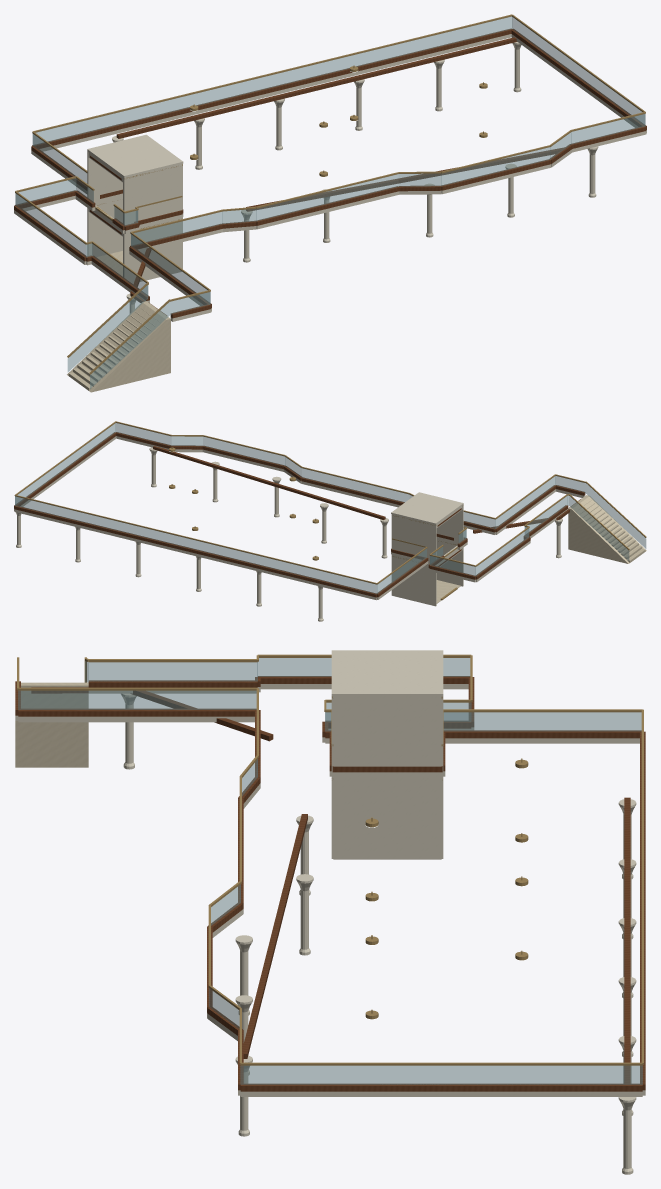
File: AST-DIN-004.glb
The picture shows the model from 3 angles, top to bottom: view 1: azimuth 30°, elevation 25°; view 2: azimuth 150°, elevation 25°; view 3: azimuth 270°, elevation 25°; orthographic projection. The views are drawn at different scales.
Parts seen in each view (by area): view 1: MEZ_GuardGlass_5, MEZ_LiftShaftSide_1, MEZ_StairCarcass, MEZ_GuardPlinth_5, MEZ_LiftShaftSide_-1, MEZ_VisibleEdgeGirder_0, MEZ_LiftClosedCap, MEZ_ProfiledEdge_5, MEZ_GuardGlass_22, MEZ_GuardGlass_4, MEZ_VisibleEdgeGirder_1, MEZ_GuardGlass_1 (+17 smaller); view 2: MEZ_GuardGlass_5, MEZ_LiftShaftSide_-1, MEZ_StairCarcass, MEZ_GuardPlinth_5, MEZ_LiftShaftSide_1, MEZ_LiftClosedCap, MEZ_ProfiledEdge_5, MEZ_VisibleEdgeGirder_1, MEZ_GuardGlass_22, MEZ_GuardGlass_4, MEZ_GuardCap_5, MEZ_GuardGlass_1 (+17 smaller); view 3: MEZ_LiftShaftRear, MEZ_GuardGlass_4, MEZ_LiftClosedCap, MEZ_GuardGlass_19, MEZ_StairCarcass, MEZ_GuardGlass_6, MEZ_GuardPlinth_4, MEZ_GuardGlass_17, MEZ_ProfiledEdge_4, MEZ_GuardPlinth_19, MEZ_VisibleEdgeGirder_0, MEZ_VisibleEdgeGirder_1 (+15 smaller).
Part boxes in pixels (x1,y1,x2,y2): MEZ_GuardGlass_5: (33,16,511,145); MEZ_LiftShaftSide_1: (123,161,182,283); MEZ_StairCarcass: (67,301,170,392); MEZ_GuardPlinth_5: (32,28,511,148); MEZ_LiftShaftSide_-1: (87,135,145,256); MEZ_VisibleEdgeGirder_0: (116,37,516,138); MEZ_LiftClosedCap: (88,134,183,176); MEZ_ProfiledEdge_5: (39,34,511,151); MEZ_GuardGlass_22: (256,174,398,220); MEZ_GuardGlass_4: (512,17,645,125); MEZ_VisibleEdgeGirder_1: (246,147,564,211); MEZ_GuardGlass_1: (441,147,549,185); MEZ_GuardGlass_5: (15,496,376,593); MEZ_LiftShaftSide_-1: (391,512,436,606); MEZ_StairCarcass: (568,495,646,563); MEZ_GuardPlinth_5: (14,505,376,597); MEZ_LiftShaftSide_1: (419,492,463,586); MEZ_LiftClosedCap: (391,492,463,524); MEZ_ProfiledEdge_5: (14,509,376,600); MEZ_VisibleEdgeGirder_1: (153,446,385,519); MEZ_GuardGlass_22: (302,468,409,502); MEZ_GuardGlass_4: (15,423,115,505); MEZ_GuardCap_5: (15,495,376,584); MEZ_GuardGlass_1: (203,436,284,465); MEZ_LiftShaftRear: (333,692,441,859); MEZ_GuardGlass_4: (241,1065,642,1084); MEZ_LiftClosedCap: (331,650,443,696); MEZ_GuardGlass_19: (18,690,256,709); MEZ_StairCarcass: (15,682,88,767); MEZ_GuardGlass_6: (443,712,641,731); MEZ_GuardPlinth_4: (240,1083,642,1091); MEZ_GuardGlass_17: (89,662,257,681); MEZ_ProfiledEdge_4: (240,1091,642,1096); MEZ_GuardPlinth_19: (18,708,256,716); MEZ_VisibleEdgeGirder_0: (624,797,630,1083); MEZ_VisibleEdgeGirder_1: (243,814,307,1058).
Size of the model in its own units: 42.86 by 7.09 by 24.42.
Materials: 6 (4 with a texture image).
